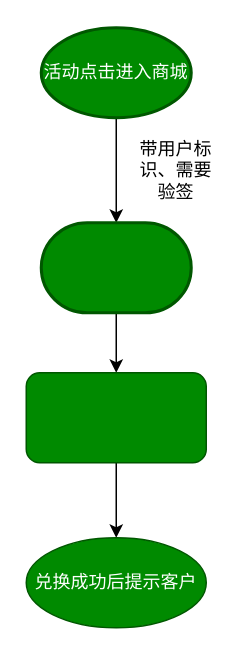
This 248x654 diagram has some shape labels left out. The box of each missing label's shape, as (x1, y1, x2, y2) in pixels:
商场通过接口查询用户信息: (39, 220, 192, 314)
客户发起兑换，商城调用兑换接口完成扣减操作: (25, 371, 206, 463)
